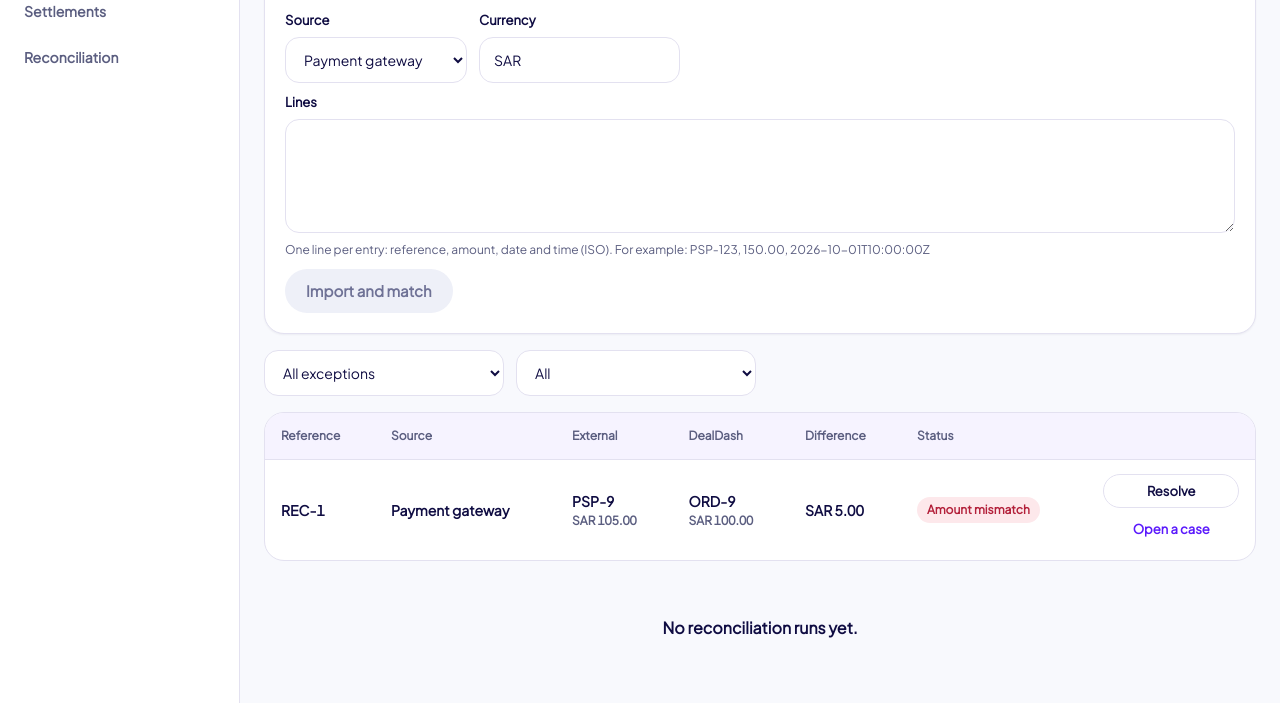
Test: Stage 8 admin operations › reconciliation: exceptions with external / internal / difference, and a resolution needs a reason
(page scrolled)
Expected: the row with test id "rec-REC-1" shows "Amount mismatch", x1=927 y1=502 x2=1030 y2=517
Expected: the row with test id "rec-REC-1" shows "PSP-9", x1=572 y1=492 x2=614 y2=510
Click the button with test id "rec-resolve-open-REC-1". click: (1171, 491)
box: x1=1103 y1=474 x2=1239 y2=508
(page scrolled)
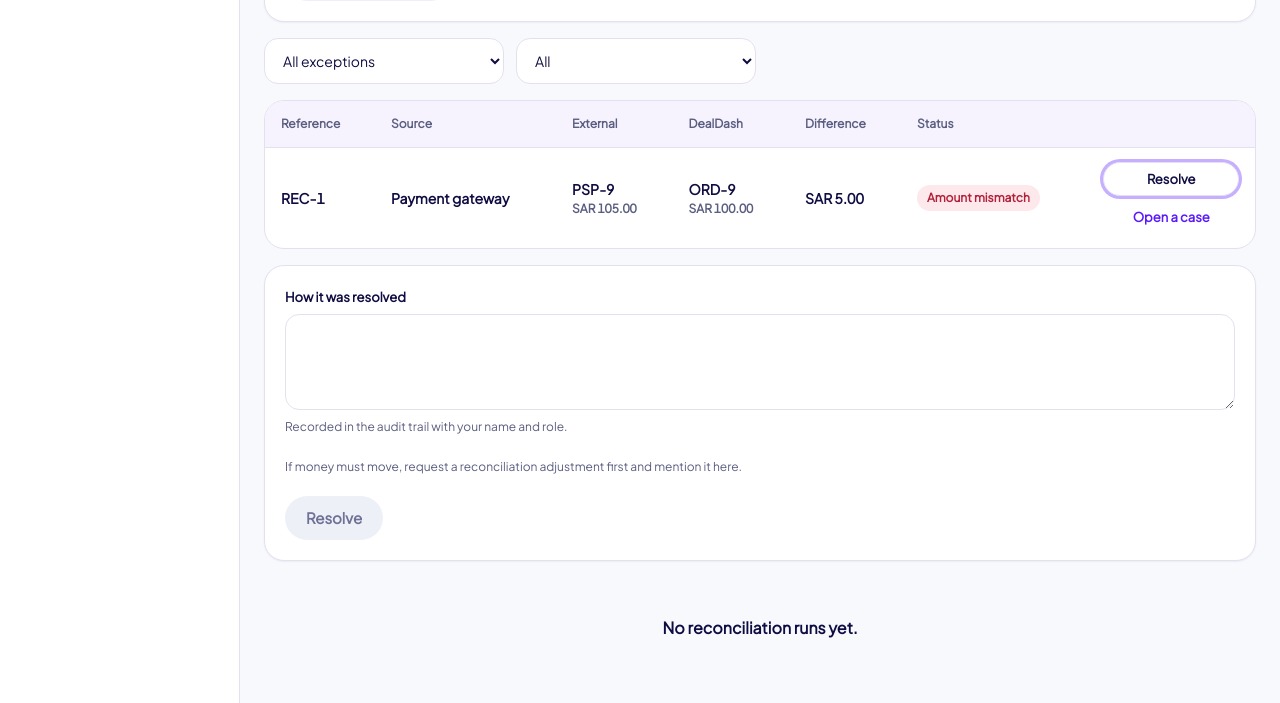
Expected: the button with test id "rec-resolve-btn" is disabled, x1=285 y1=496 x2=383 y2=540
